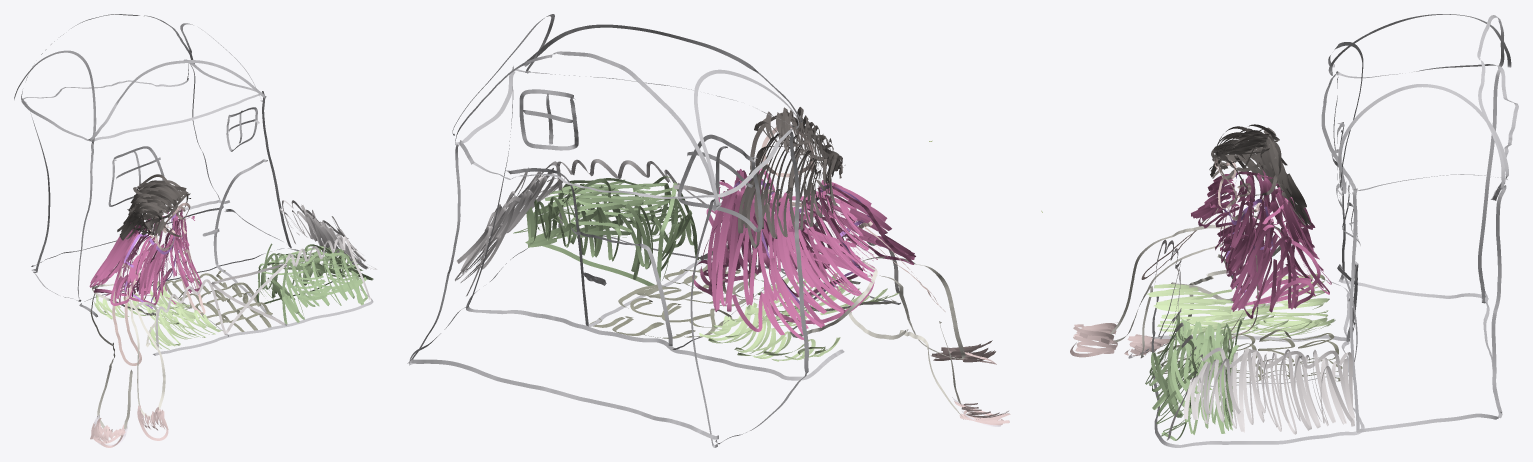
3 views of the same model, side by side, from view 1: azimuth 30°, elevation 25°; view 2: azimuth 150°, elevation 25°; view 3: azimuth 270°, elevation 25° (orthographic). The views are drawn at different scales.
Parts seen in each view (by area): view 1: brush_Paper_g0_b0; view 2: brush_Paper_g0_b0; view 3: brush_Paper_g0_b0.
Part boxes in pixels (left/top/right/bottom): brush_Paper_g0_b0: left=14, top=14, right=376, bottom=447; brush_Paper_g0_b0: left=407, top=14, right=1010, bottom=447; brush_Paper_g0_b0: left=1041, top=14, right=1518, bottom=447.
Bounding box in the file's own units: 1.9 × 1.81 × 1.9.
1 material, 1 textured.
